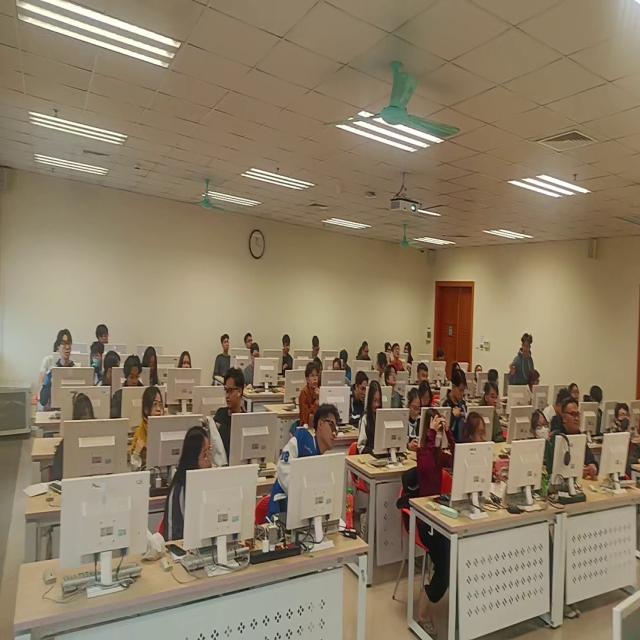raise_hand: (416, 410, 462, 514)
raise_head: (162, 426, 215, 565), (556, 397, 603, 495), (134, 381, 174, 472), (35, 327, 77, 410), (603, 390, 640, 473), (526, 403, 557, 490), (478, 379, 506, 441), (297, 363, 322, 425), (214, 329, 235, 385), (383, 362, 404, 411), (174, 346, 194, 393), (391, 341, 408, 382), (569, 377, 583, 412), (242, 324, 253, 364), (475, 359, 485, 386)
stand: (511, 325, 537, 410)
using_computer: (53, 391, 98, 498), (460, 404, 492, 484), (358, 381, 390, 461), (112, 358, 146, 425), (585, 381, 612, 448), (443, 367, 469, 434), (38, 329, 62, 397), (400, 386, 426, 447), (545, 380, 570, 439), (349, 363, 371, 425), (140, 343, 165, 396), (244, 343, 266, 395), (307, 327, 325, 372), (357, 336, 375, 379), (330, 358, 350, 396), (279, 332, 295, 379), (335, 346, 355, 382), (435, 347, 452, 387), (384, 342, 394, 357)
